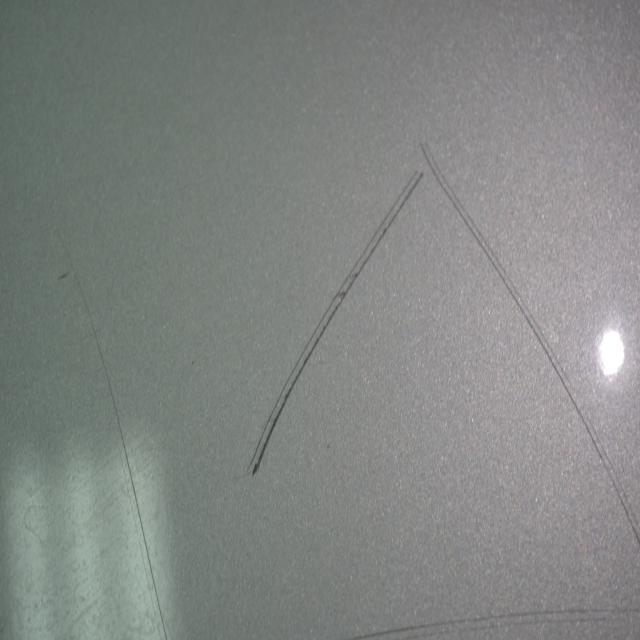scratch: (415, 124, 640, 554), (240, 164, 430, 490), (51, 218, 176, 640), (350, 599, 640, 640)
